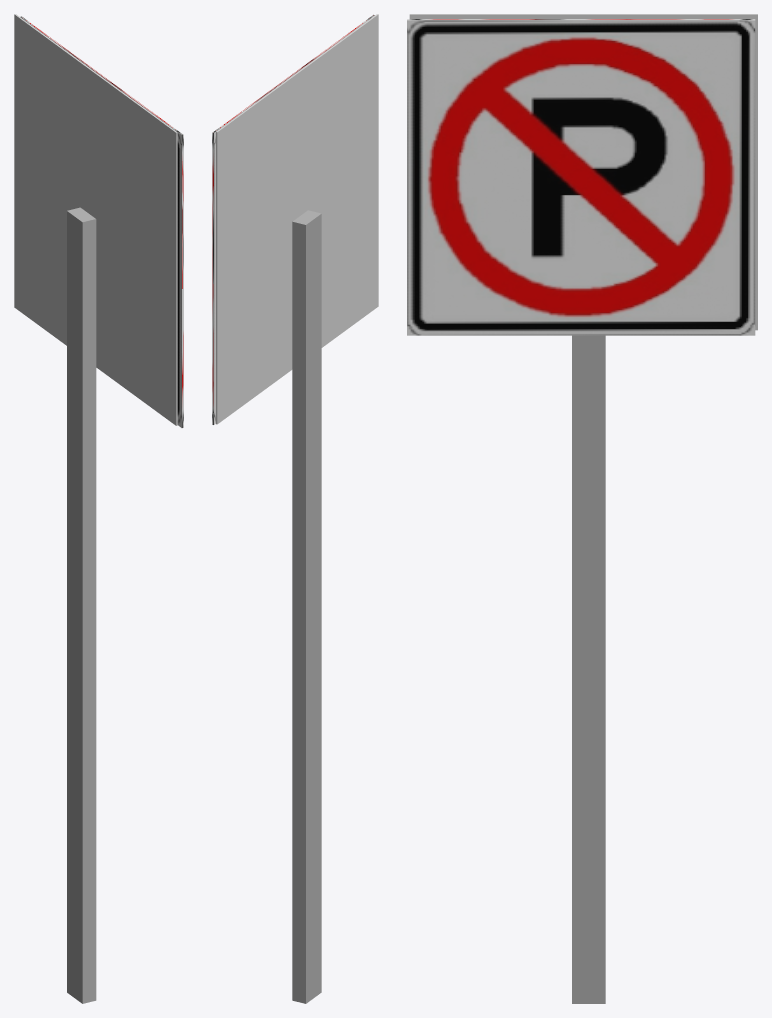
The model's file is no_parking.dae.
3 views of the same model, side by side, from view 1: azimuth 30°, elevation 25°; view 2: azimuth 150°, elevation 25°; view 3: azimuth 270°, elevation 25° (orthographic). The views are drawn at different scales.
Parts seen in each view (by area): view 1: Cube_002, Cube_001, Cube; view 2: Cube_002, Cube_001, Cube; view 3: Cube, Cube_001, Cube_002.
Part boxes in pixels (x1=…): Cube_002: x1=14, y1=14, x2=177, y2=425; Cube_001: x1=67, y1=207, x2=96, y2=1003; Cube: x1=20, y1=16, x2=183, y2=428; Cube_002: x1=216, y1=14, x2=378, y2=424; Cube_001: x1=292, y1=210, x2=321, y2=1003; Cube: x1=212, y1=14, x2=374, y2=424; Cube: x1=407, y1=19, x2=755, y2=335; Cube_001: x1=572, y1=335, x2=605, y2=1003; Cube_002: x1=409, y1=14, x2=757, y2=330.
Bounding box in the file's own units: 0.0799 × 0.9209 × 2.88.
